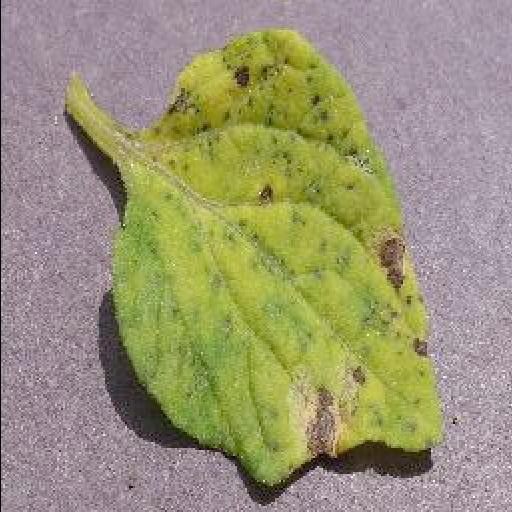disease_tomato: (114, 36, 440, 486)
